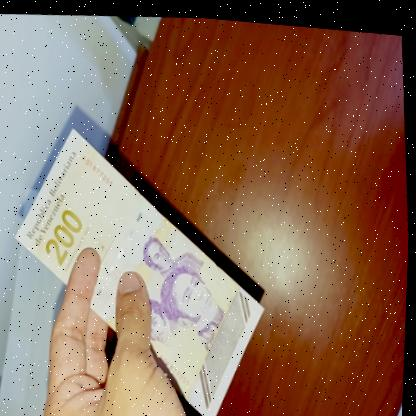vef_front: (2, 107, 281, 416)
